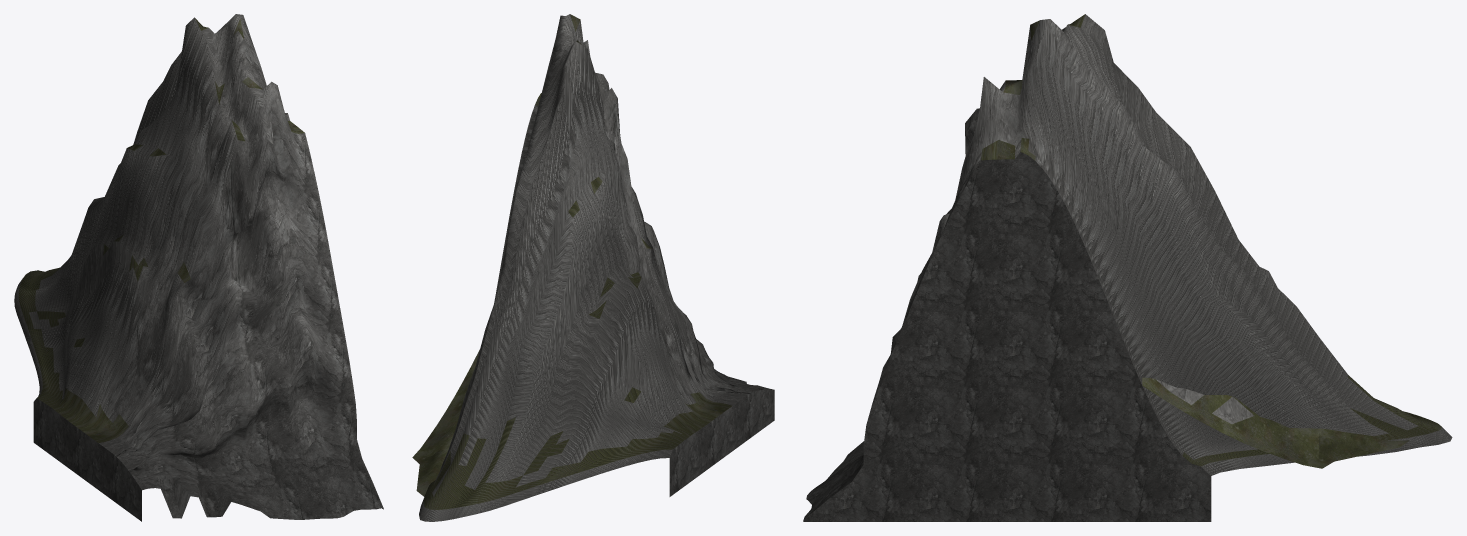
Rendered from seacliff_endcap_left_h8_b_v5_summer.glb.
3 renders of one model, left to right at view 1: azimuth 30°, elevation 25°; view 2: azimuth 150°, elevation 25°; view 3: azimuth 270°, elevation 25°, orthographic. The views are drawn at different scales.
Visible parts, largest first — view 1: seacliff_endcap_left_h8_b; view 2: seacliff_endcap_left_h8_b; view 3: seacliff_endcap_left_h8_b.
Part boxes in pixels (x1,y1,x2,y2): seacliff_endcap_left_h8_b: (14,14,383,521); seacliff_endcap_left_h8_b: (412,14,774,521); seacliff_endcap_left_h8_b: (803,14,1452,521).
Bounding box in the file's own units: 6 × 12.59 × 15.37.
2 materials, 2 textured.
